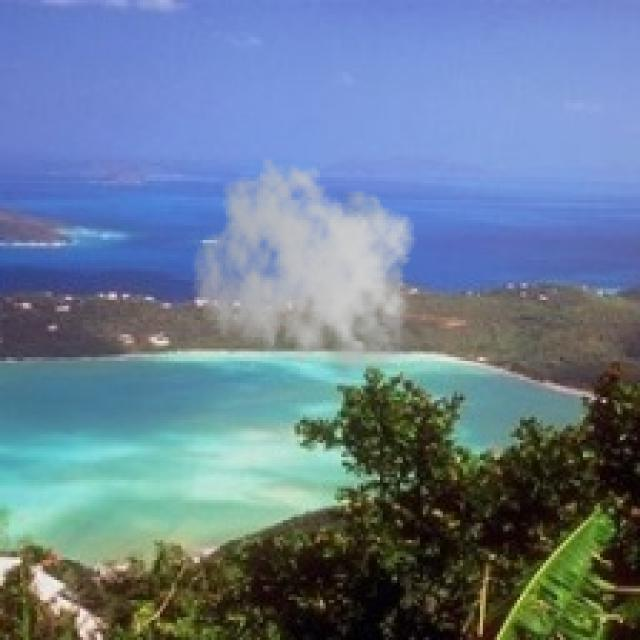smoke: (191, 157, 423, 383)
